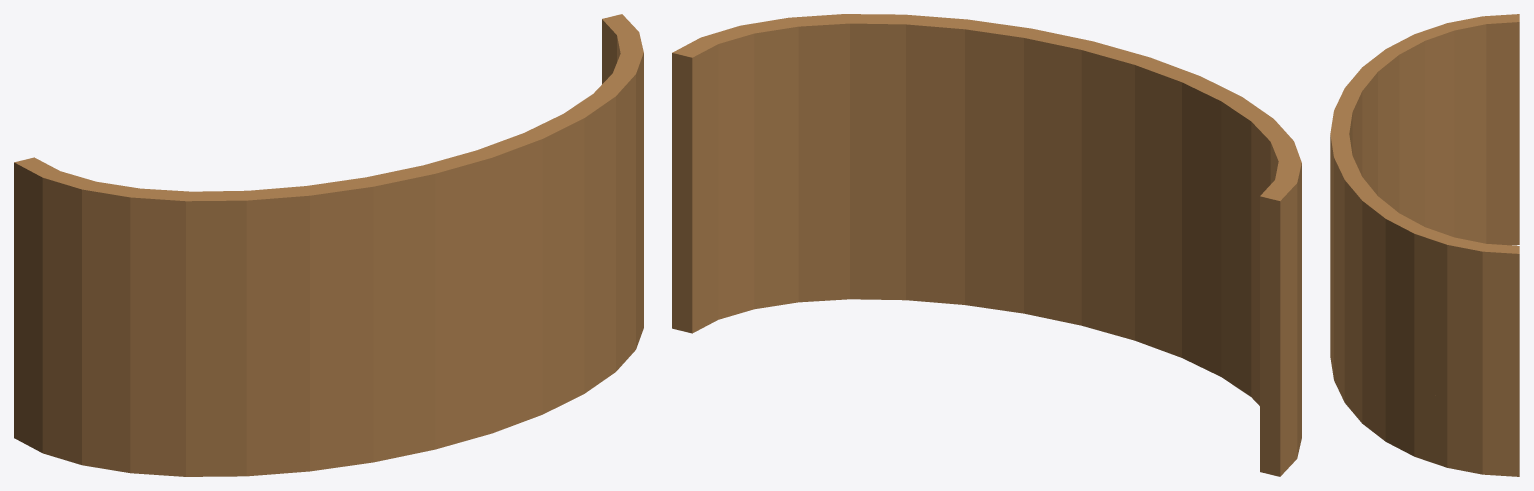
File: MIDDLE_STERN.glb
The picture shows the model from 3 angles, left to right: view 1: azimuth 30°, elevation 25°; view 2: azimuth 150°, elevation 25°; view 3: azimuth 270°, elevation 25°; orthographic projection. The views are drawn at different scales.
Bounding box in the file's own units: 6 × 2.6 × 2.
